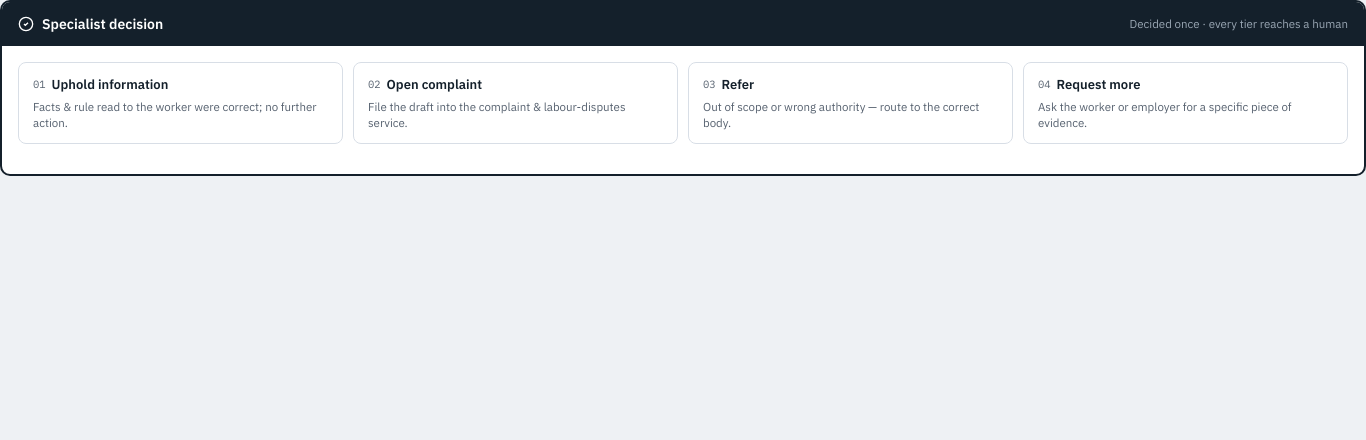
Test: DecisionPanel — failed submission › surfaces a transcript-pending 409 with a specific message
Click the radio button labelled "Uphold information".
click(180, 103)  # box [18,62,343,144]
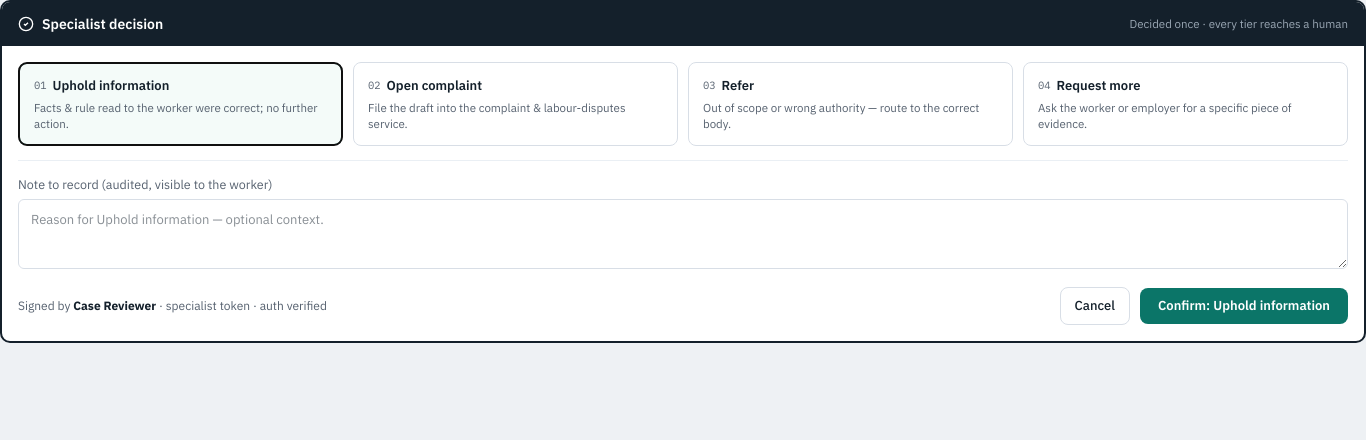
Click the button "Confirm: Uphold information".
click(1244, 306)  # box [1140,288,1348,324]
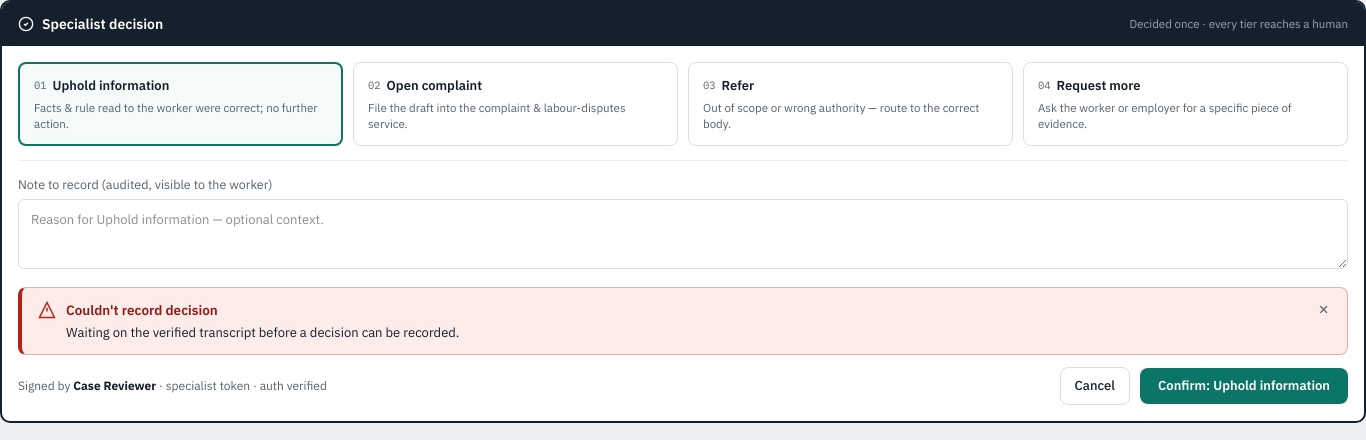
Now the text "Waiting on the verified transcript" is shown, box [66,324,459,341]
